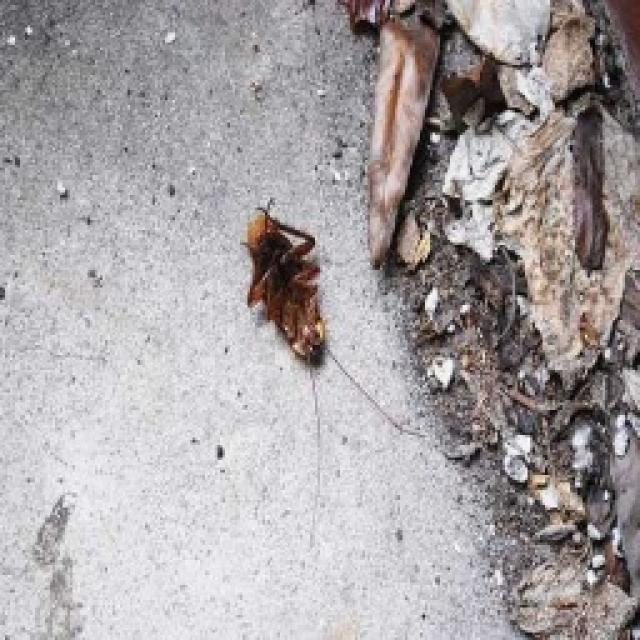cockroach: (237, 197, 334, 371)
